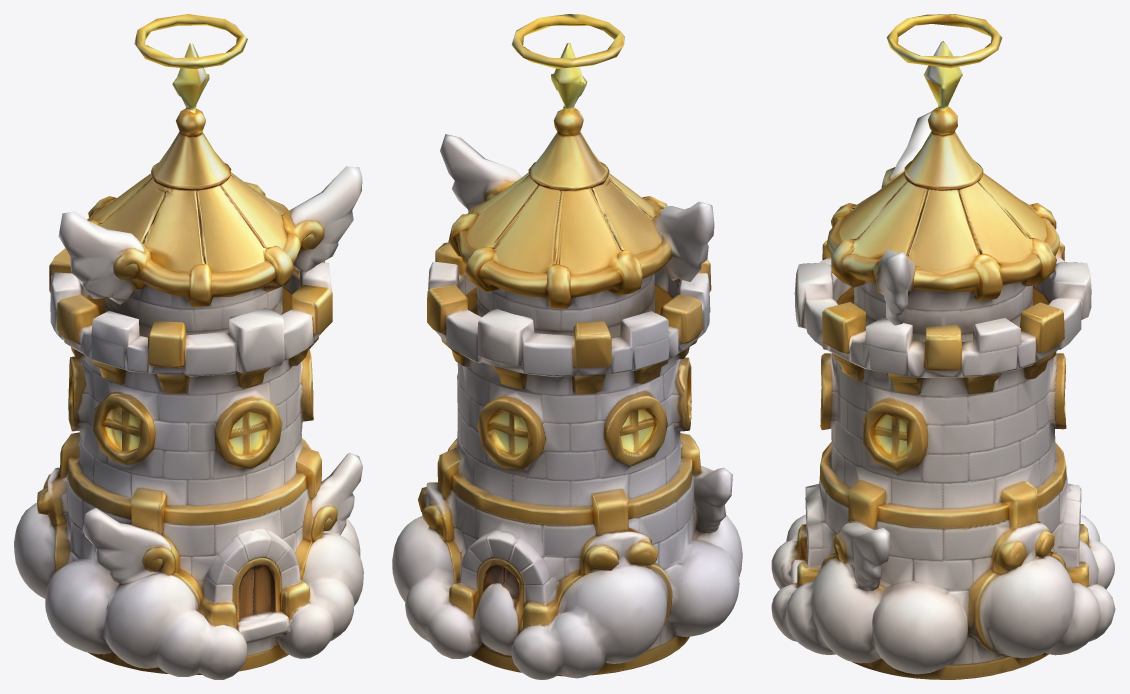
The model's file is Town_Halo_WallTower_HD.glb.
3 views of the same model, side by side, from view 1: azimuth 30°, elevation 25°; view 2: azimuth 150°, elevation 25°; view 3: azimuth 270°, elevation 25° (orthographic).
Visible parts, largest first — view 1: tripo_node_e4bb247f-0c42-4e6b-a8e0-2e3610b03c6a; view 2: tripo_node_e4bb247f-0c42-4e6b-a8e0-2e3610b03c6a; view 3: tripo_node_e4bb247f-0c42-4e6b-a8e0-2e3610b03c6a.
Boxes of the visible parts, x1,y1,x2,y2 form: tripo_node_e4bb247f-0c42-4e6b-a8e0-2e3610b03c6a: (14,14,363,679); tripo_node_e4bb247f-0c42-4e6b-a8e0-2e3610b03c6a: (392,14,742,679); tripo_node_e4bb247f-0c42-4e6b-a8e0-2e3610b03c6a: (771,14,1115,679).
Size of the model in its own units: 0.5274 by 0.9803 by 0.5159.
Materials: 1 (1 with a texture image).
